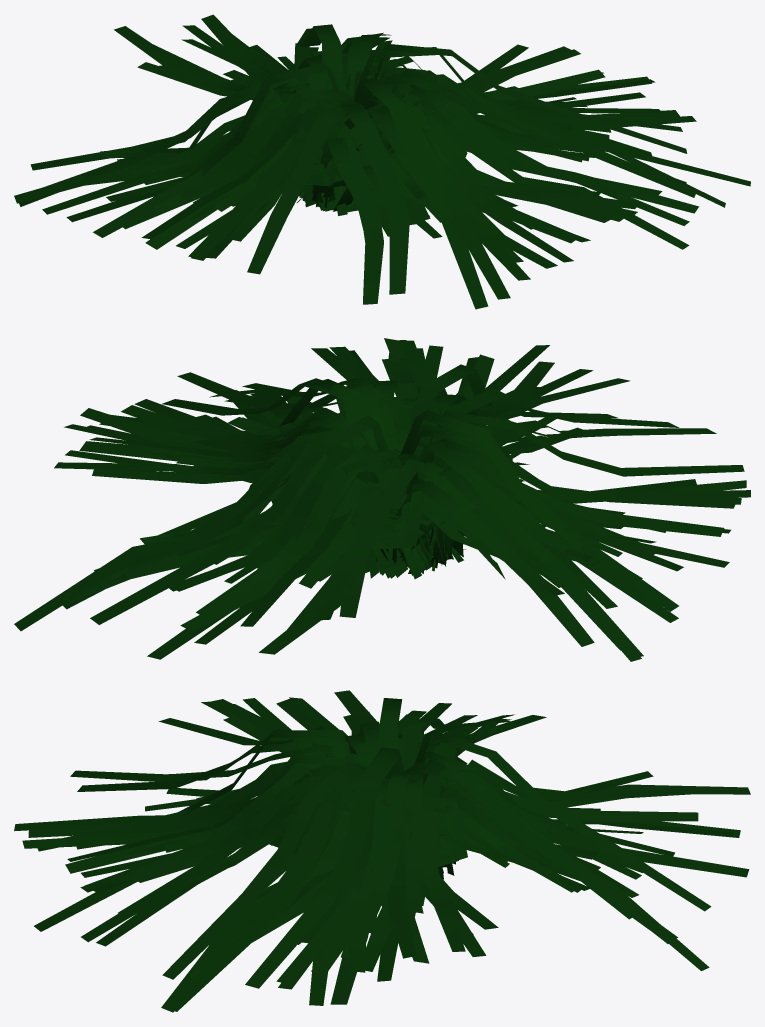
File: Grass_05.fbx
3 views of the same model, one above another, from view 1: azimuth 30°, elevation 25°; view 2: azimuth 150°, elevation 25°; view 3: azimuth 270°, elevation 25° (orthographic). The views are drawn at different scales.
Parts seen in each view (by area): view 1: grass_05_LOD0; view 2: grass_05_LOD0; view 3: grass_05_LOD0.
Part boxes in pixels (left/top/right/bottom): grass_05_LOD0: left=14, top=14, right=750, bottom=309; grass_05_LOD0: left=14, top=338, right=750, bottom=661; grass_05_LOD0: left=14, top=690, right=750, bottom=1012.
Size of what is drawn, in the model's own units: 299 by 66.22 by 311.
